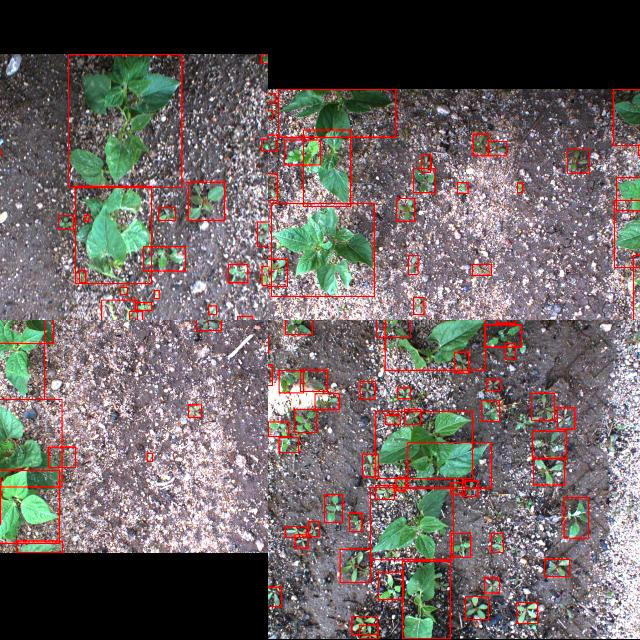crop: (67, 54, 181, 188), (271, 204, 374, 296), (75, 186, 151, 284), (374, 412, 472, 478), (370, 488, 452, 560), (278, 89, 394, 137), (0, 399, 61, 487), (384, 320, 484, 369), (0, 470, 58, 543), (408, 442, 490, 488), (402, 561, 450, 639), (302, 130, 350, 207), (0, 320, 43, 399), (613, 200, 640, 268), (612, 89, 640, 145), (101, 300, 136, 320), (16, 541, 62, 553)
weed: (188, 182, 225, 220), (143, 246, 185, 272), (562, 498, 588, 538), (340, 550, 370, 582), (532, 430, 566, 458), (284, 140, 320, 164), (532, 459, 564, 485), (616, 177, 640, 210), (484, 324, 520, 346), (530, 392, 554, 420), (378, 572, 402, 600), (376, 320, 410, 337), (464, 596, 488, 620), (278, 370, 304, 392), (413, 168, 435, 192), (567, 149, 589, 173), (48, 447, 74, 467), (300, 370, 326, 390), (324, 494, 342, 522), (268, 259, 286, 286), (294, 410, 316, 432), (450, 533, 470, 557), (351, 617, 377, 635), (516, 602, 536, 624), (544, 559, 568, 577), (396, 198, 414, 220), (314, 393, 338, 409), (284, 320, 311, 334), (227, 264, 247, 282), (481, 400, 499, 420), (556, 408, 574, 428), (472, 133, 488, 155), (362, 454, 378, 476), (486, 140, 506, 156), (256, 221, 268, 246), (268, 421, 287, 436), (358, 625, 378, 639), (374, 485, 394, 499), (454, 352, 468, 372), (278, 438, 298, 452), (284, 526, 306, 538), (461, 480, 477, 496), (360, 381, 374, 399), (195, 320, 220, 330), (349, 512, 361, 532), (268, 587, 280, 607), (491, 534, 504, 552), (484, 578, 498, 594), (404, 410, 420, 424), (268, 173, 276, 200), (158, 208, 175, 220), (407, 255, 417, 275), (58, 215, 72, 229), (294, 534, 308, 548), (472, 264, 491, 274), (420, 154, 430, 172), (188, 404, 200, 418), (260, 266, 268, 286), (413, 298, 423, 314), (384, 414, 400, 424), (504, 343, 514, 359), (450, 482, 464, 493), (268, 134, 277, 150), (486, 380, 500, 390), (308, 522, 318, 536), (395, 477, 405, 491), (457, 182, 468, 194), (396, 388, 409, 398), (135, 303, 151, 311), (128, 311, 141, 320), (261, 138, 268, 150), (78, 270, 85, 282), (260, 53, 268, 62), (208, 306, 216, 314), (268, 92, 275, 101), (236, 316, 251, 320), (516, 182, 522, 192), (146, 453, 152, 461), (120, 288, 126, 294), (637, 144, 640, 155), (154, 290, 158, 298), (84, 215, 88, 221), (268, 110, 271, 118)
